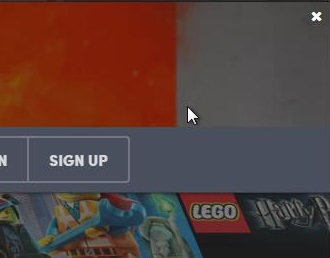cursor: (185, 105, 199, 126)
